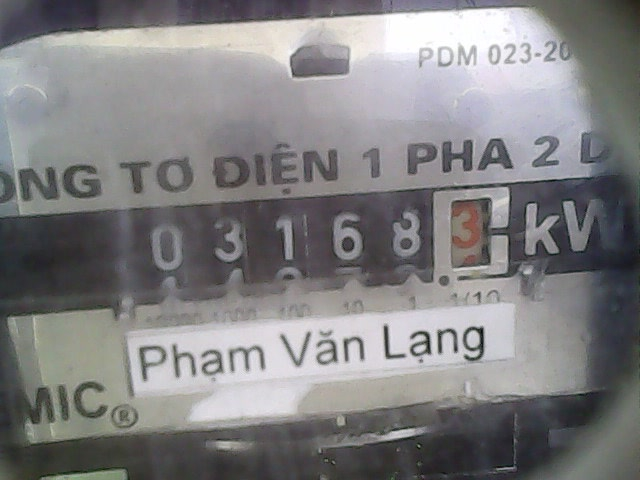phy_plate: (130, 184, 515, 288)
